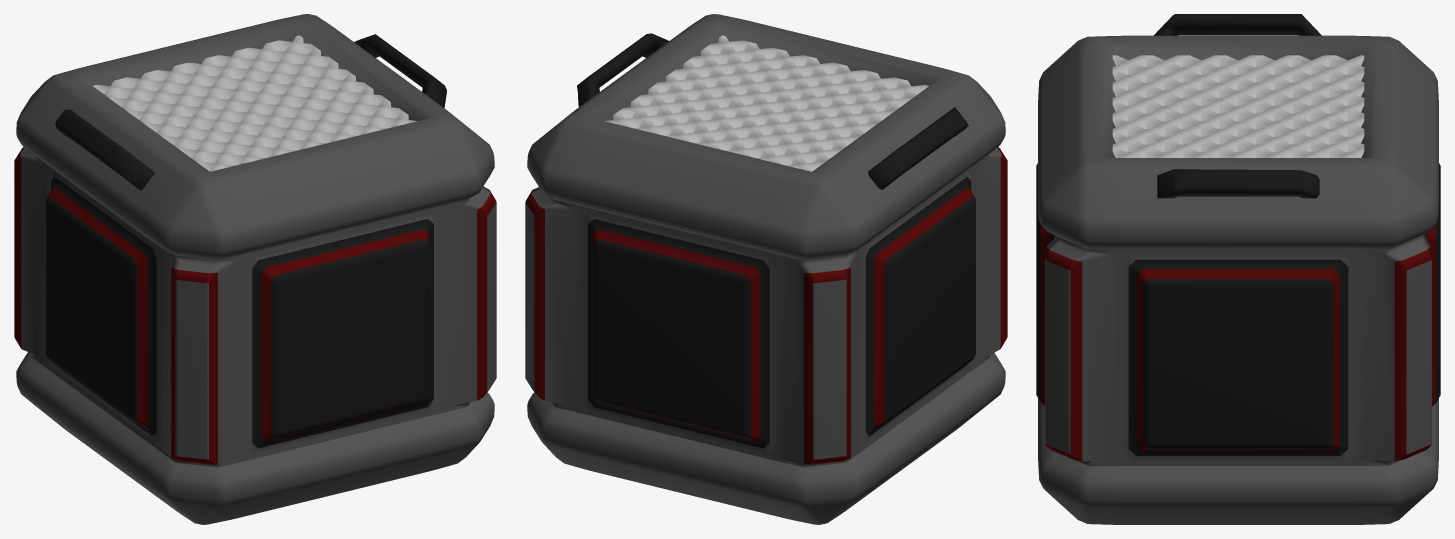
The picture shows the model from 3 angles, left to right: view 1: azimuth 30°, elevation 25°; view 2: azimuth 150°, elevation 25°; view 3: azimuth 270°, elevation 25°; orthographic projection. The views are drawn at different scales.
Parts seen in each view (by area): view 1: Object169; view 2: Object169; view 3: Object169.
Part boxes in pixels (x1,y1,x2,y2): Object169: (14, 14, 496, 524); Object169: (525, 14, 1007, 524); Object169: (1036, 14, 1440, 524).
Size of the model in its own units: 1.03 by 1.01 by 1.02.
